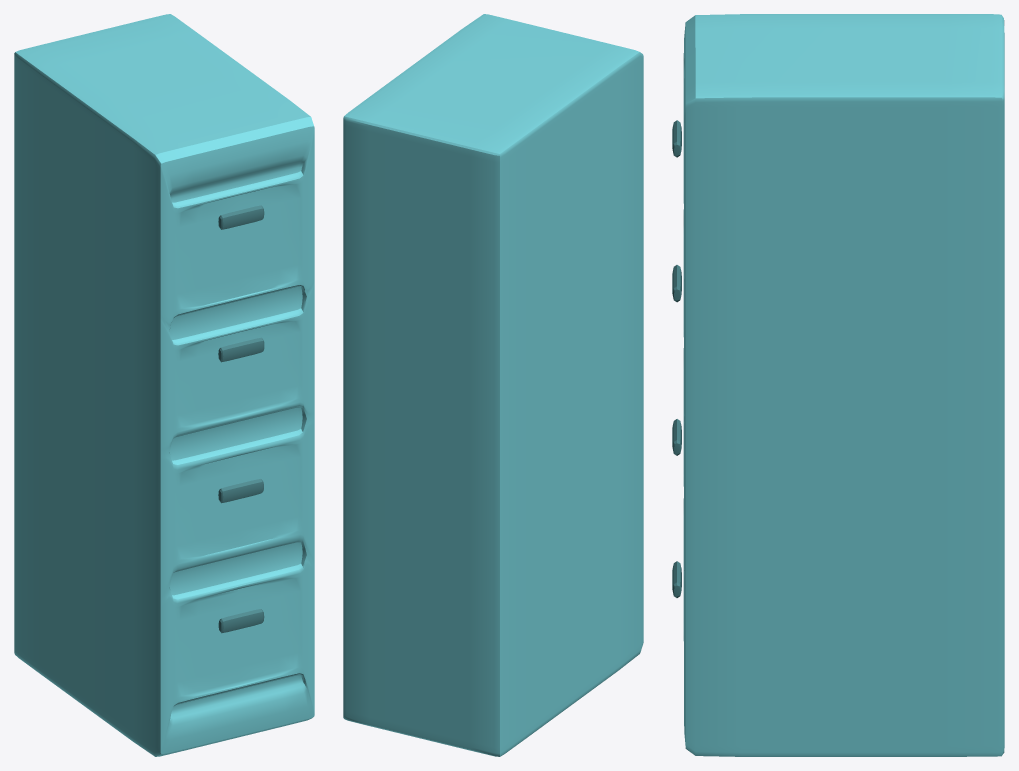
Rendered from Filing_Cabinet.fbx.
3 renders of one model, left to right at view 1: azimuth 30°, elevation 25°; view 2: azimuth 150°, elevation 25°; view 3: azimuth 270°, elevation 25°, orthographic. The views are drawn at different scales.
Parts seen in each view (by area): view 1: Cube.002; view 2: Cube.002; view 3: Cube.002.
Part boxes in pixels (bbox=[...]): Cube.002: bbox=[14, 14, 314, 756]; Cube.002: bbox=[343, 14, 643, 756]; Cube.002: bbox=[672, 14, 1004, 756].
Bounding box in the file's own units: 116 × 424 × 193.
